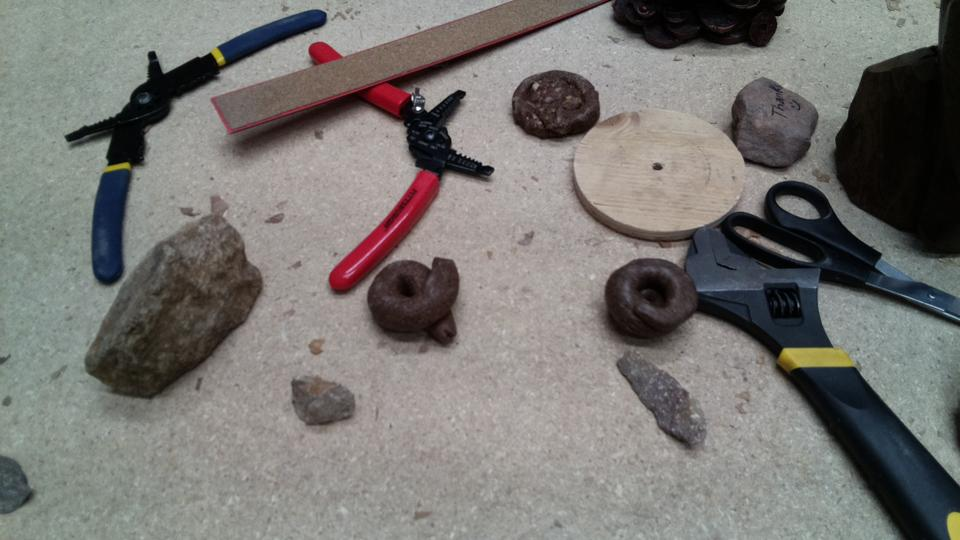poop: (362, 252, 463, 349), (599, 255, 701, 345), (507, 66, 603, 139)
